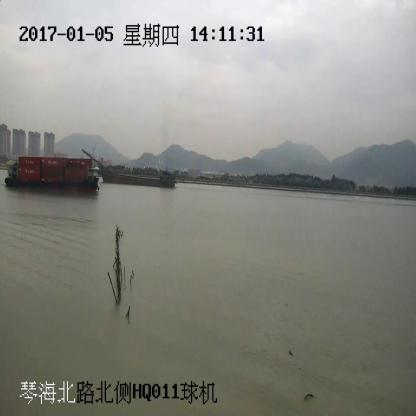Bulk Carrier: (83, 151, 175, 186)
